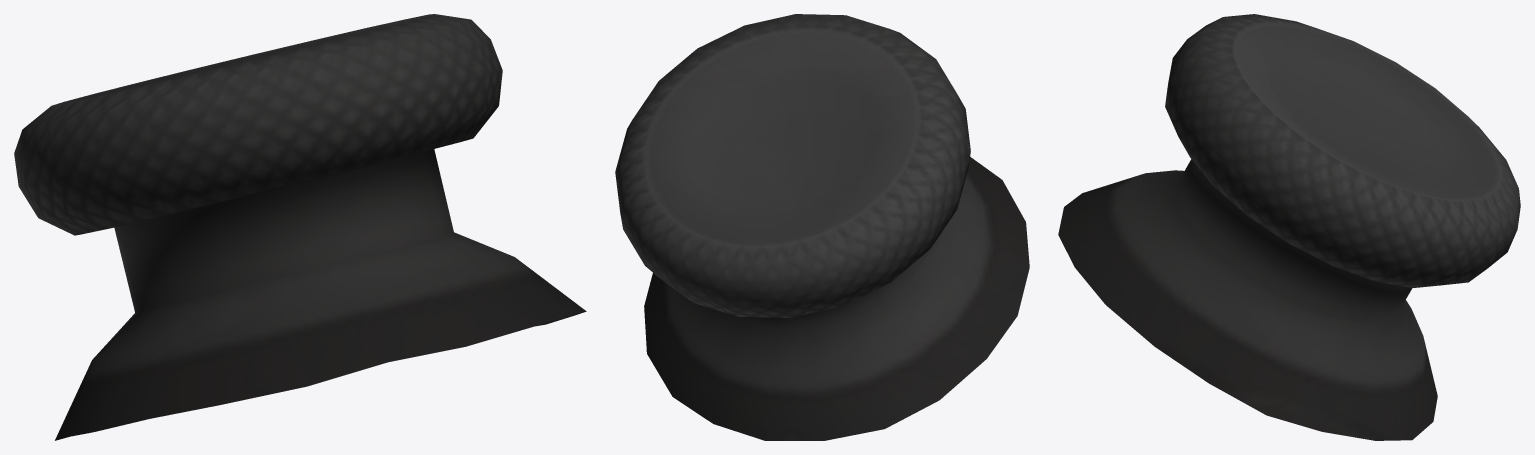
File: left_joystick.obj
3 views of the same model, side by side, from view 1: azimuth 30°, elevation 25°; view 2: azimuth 150°, elevation 25°; view 3: azimuth 270°, elevation 25° (orthographic). The views are drawn at different scales.
Visible parts, largest first — view 1: left_joystick; view 2: left_joystick; view 3: left_joystick.
Part boxes in pixels (x1,y1,x2,y2): left_joystick: (14,14,586,440); left_joystick: (615,14,1029,440); left_joystick: (1058,14,1520,440).
Bounding box in the file's own units: 0.0149 × 0.014 × 0.0163.
Materials: 1 (1 with a texture image).
